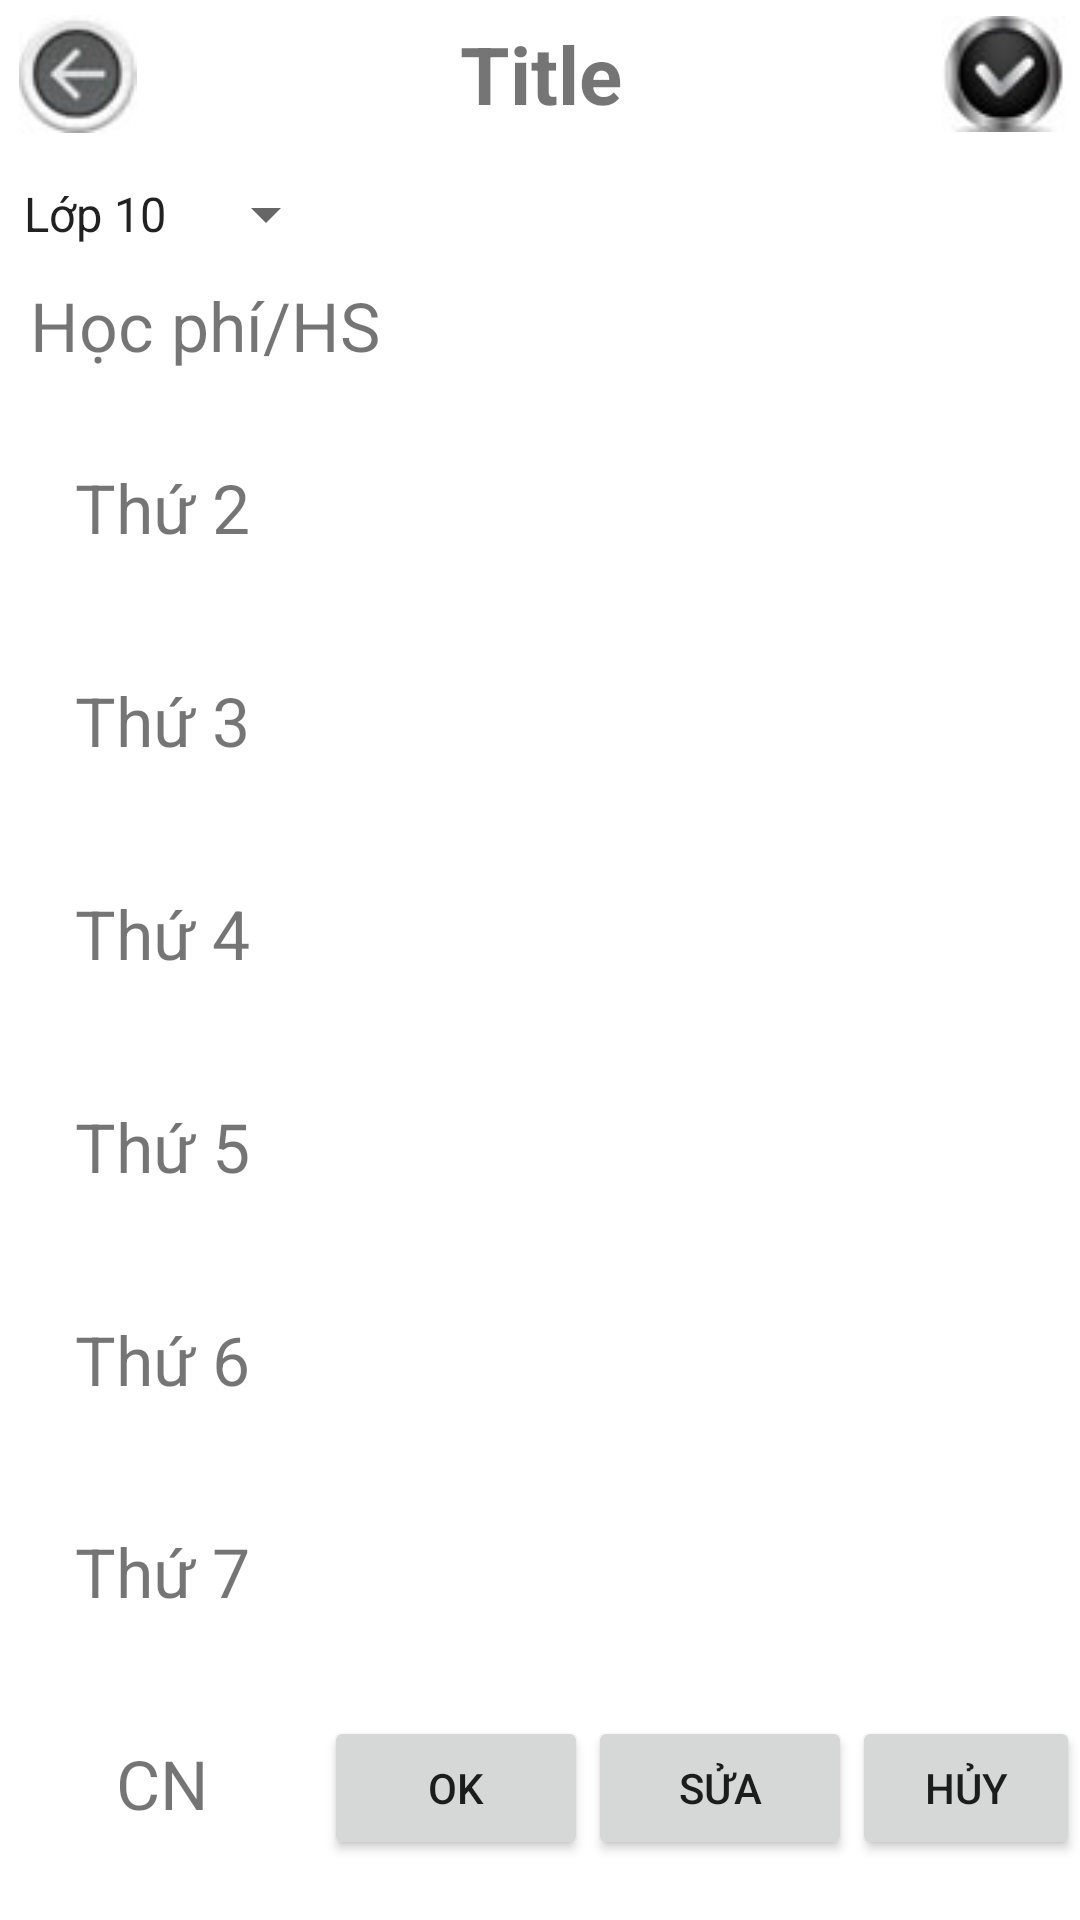

Icons on this 1080px×1920px Android screen, each with the point to tap as (x=x, y=y):
back: (x=78, y=77)
save: (x=1004, y=74)
